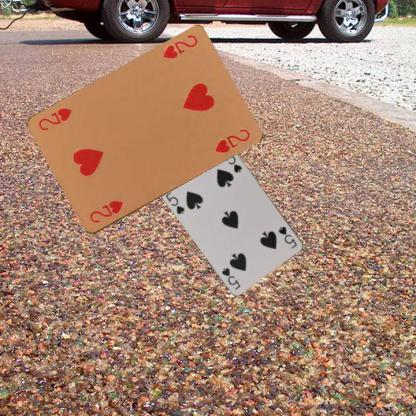2h: (159, 32, 199, 61), (87, 198, 126, 224)
5s: (163, 189, 186, 215), (276, 224, 298, 250)
